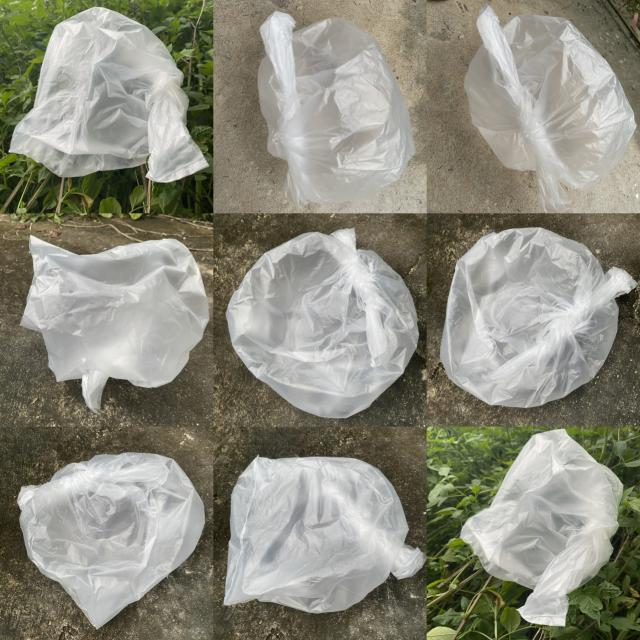Single-layer Plastic: (226, 229, 419, 418), (465, 5, 636, 212), (440, 228, 636, 408), (10, 8, 208, 182), (21, 236, 209, 412), (18, 452, 205, 628), (461, 429, 622, 626), (224, 456, 426, 613), (258, 11, 415, 208)
